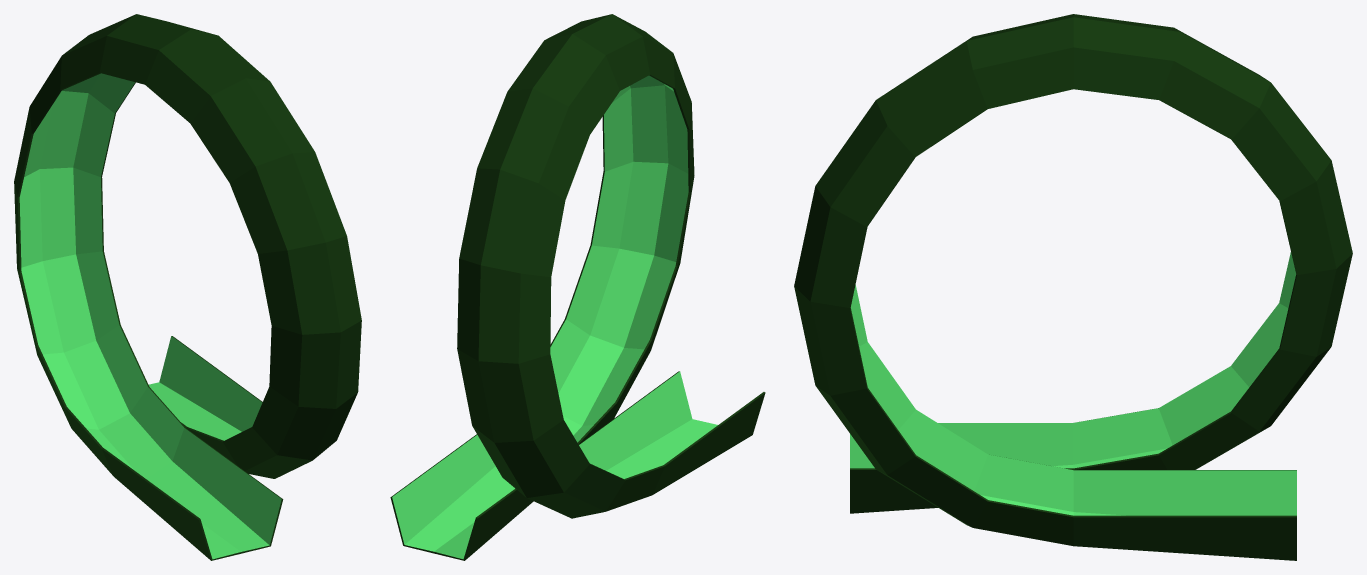
File: Loop De Loop.fbx
3 renders of one model, left to right at view 1: azimuth 30°, elevation 25°; view 2: azimuth 150°, elevation 25°; view 3: azimuth 270°, elevation 25°, orthographic. The views are drawn at different scales.
Visible parts, largest first — view 1: Loop De Loop; view 2: Loop De Loop; view 3: Loop De Loop.
Boxes of the visible parts, box(x1,y1,x2,y2) form: Loop De Loop: box(14, 14, 361, 560); Loop De Loop: box(390, 14, 765, 560); Loop De Loop: box(794, 14, 1352, 560).
Size of the model in its own units: 21 by 52.5 by 52.5.
